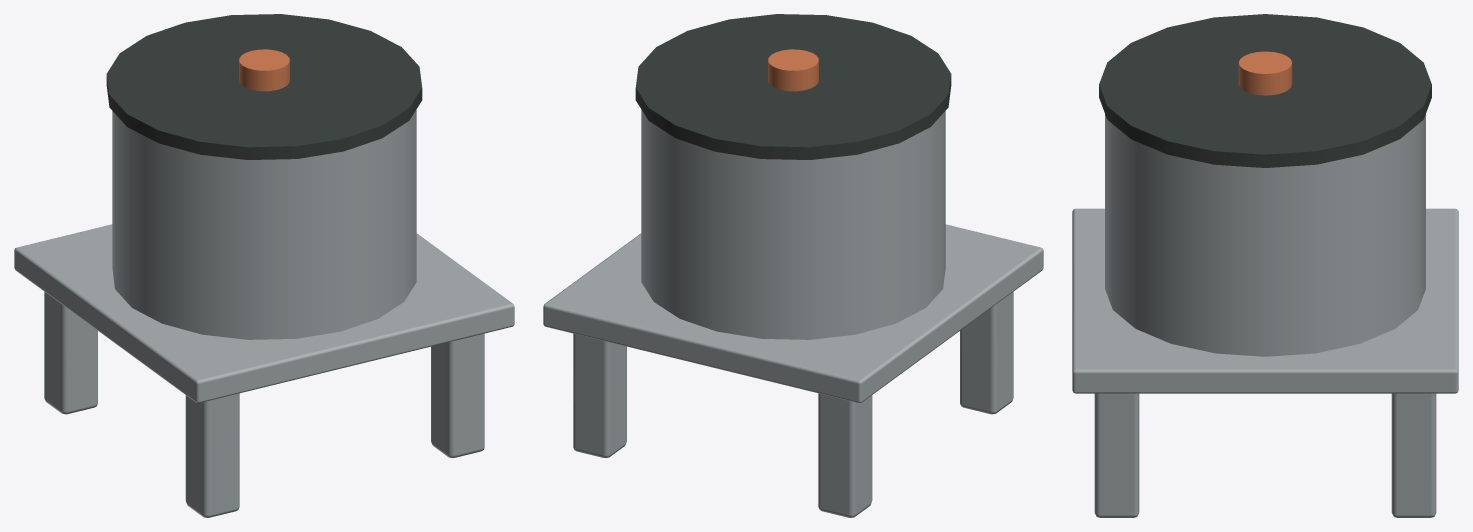
Rendered from salvage-and-repair-workshop-parts-tumbler-ca00074e__25494.glb.
The picture shows the model from 3 angles, left to right: view 1: azimuth 30°, elevation 25°; view 2: azimuth 150°, elevation 25°; view 3: azimuth 270°, elevation 25°; orthographic projection. The views are drawn at different scales.
Parts seen in each view (by area): view 1: parts-tumbler; view 2: parts-tumbler; view 3: parts-tumbler.
Boxes of the visible parts, left/top/right/bottom form: parts-tumbler: left=14, top=14, right=514, bottom=517; parts-tumbler: left=543, top=14, right=1043, bottom=517; parts-tumbler: left=1072, top=14, right=1458, bottom=517.
Size of the model in its own units: 0.65 by 0.715 by 0.65.
